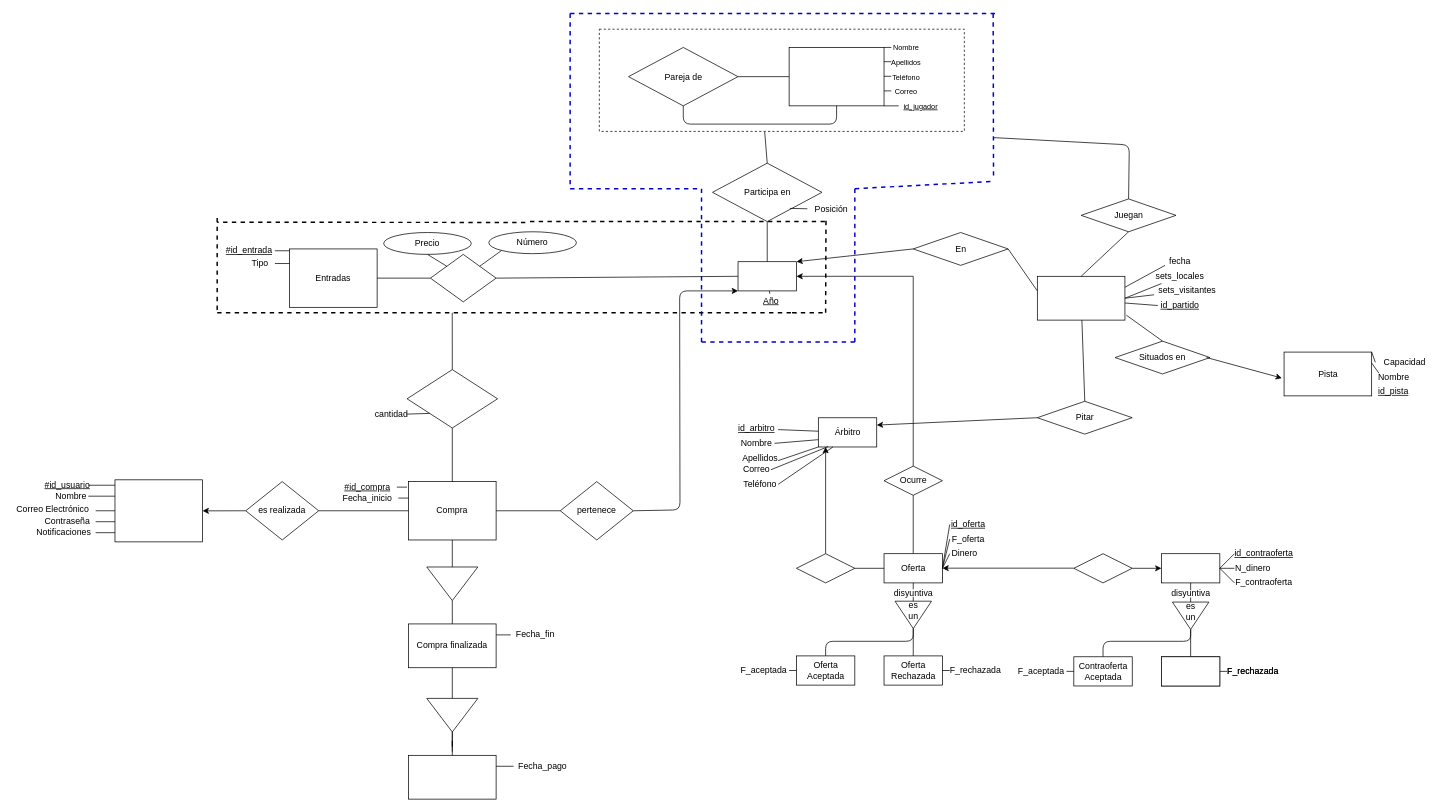
The diagram is 1446 pixels wide and 812 high, and some of its shapes have lost their labels. The shapes that lost their labels are listed below. From the top down, each one's box as (x1, y1, x2, y2) in pixels, then its label:
(788, 47, 884, 106): Jugador
(430, 254, 496, 302): asignadas en
(737, 261, 796, 291): Edición
(1037, 276, 1125, 320): Partido
(406, 369, 498, 428): contiene
(114, 479, 203, 542): Usuario
(796, 553, 855, 583): Recibe
(1073, 553, 1132, 583): Recibe una
(1161, 553, 1220, 583): Contraoferta
(1161, 656, 1220, 686): Contraoferta Rechazada
(408, 755, 496, 799): Compra pagada
